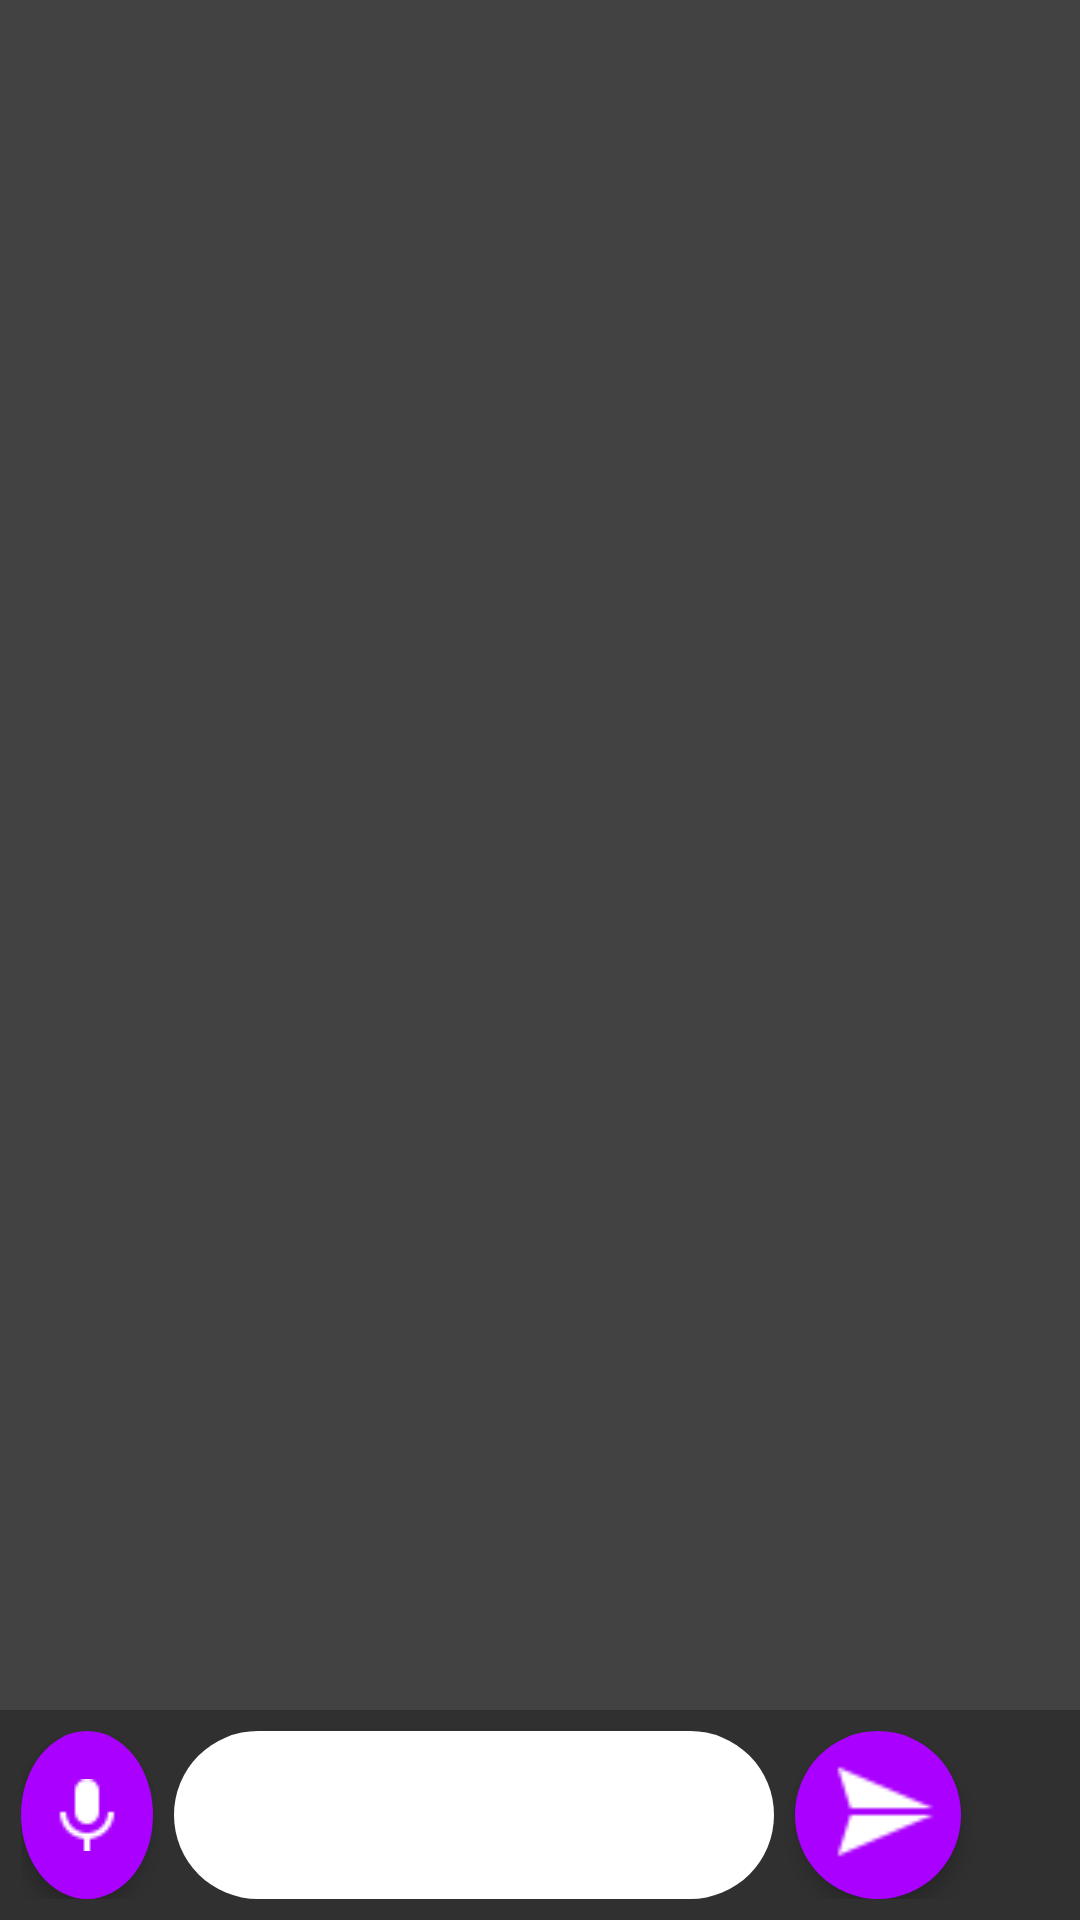

Point at icon controls on the screen. Image size 1080*1920, points as point (x, y).
send: point (878, 1815)
voz: point (87, 1815)
